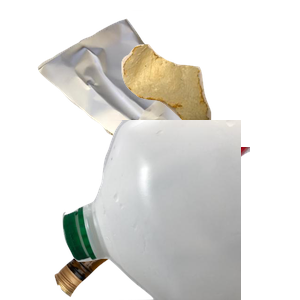glass: (52, 147, 292, 300)
paper: (35, 10, 237, 178)
plastic: (60, 120, 300, 300)
trash: (119, 42, 300, 161)
